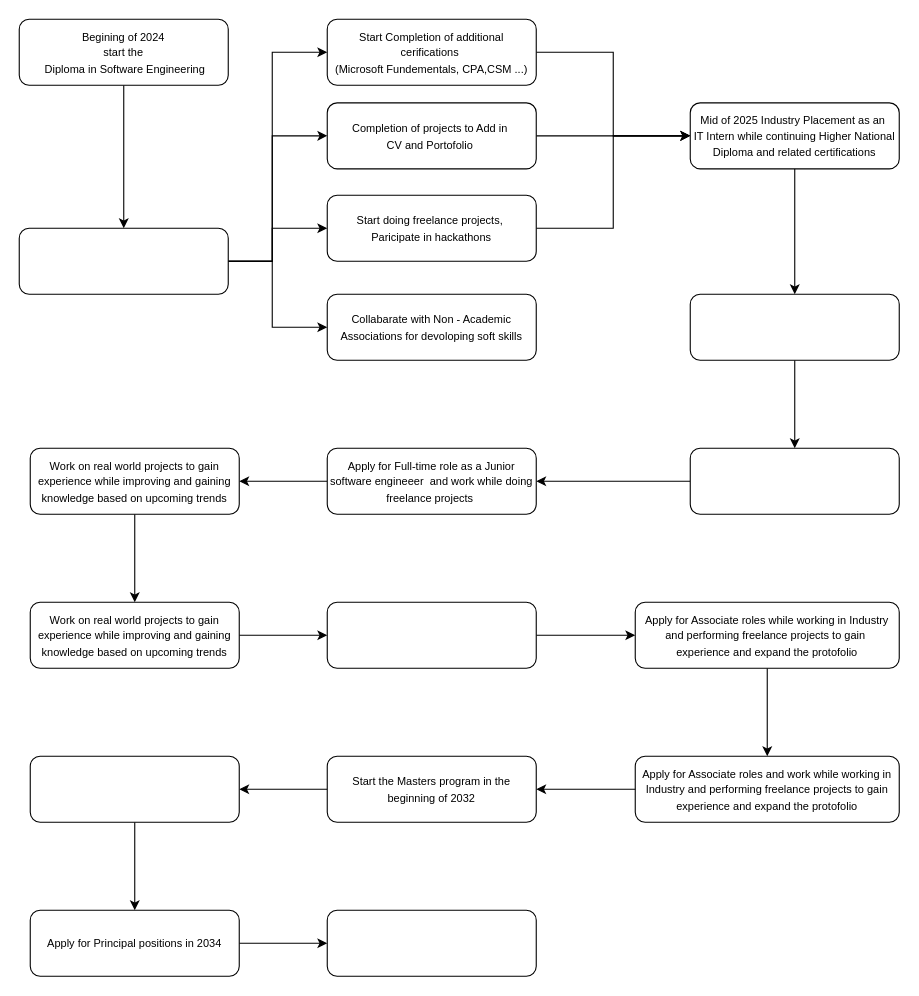
Image size: 919x996. Some labels were removed from this diagram. The shapes that lost their labels are listed below. From the top down, each one's centre as x and y in pixels, then its label:
At (x=123, y=260): "Begining of 2025 start the Higher National Diploma in Software Engineering".
At (x=794, y=326): "End of 2025 completion of Higher National".
At (x=794, y=480): "Start the Bsc(Hons) in Computer Science degree at the begining of 2026".
At (x=431, y=634): "End of 2027 completion of degree program".
At (x=134, y=788): "Apply and work as Senior software Engineer".
At (x=431, y=942): "In 2040 start working as a Manager / Entrepreneur".
